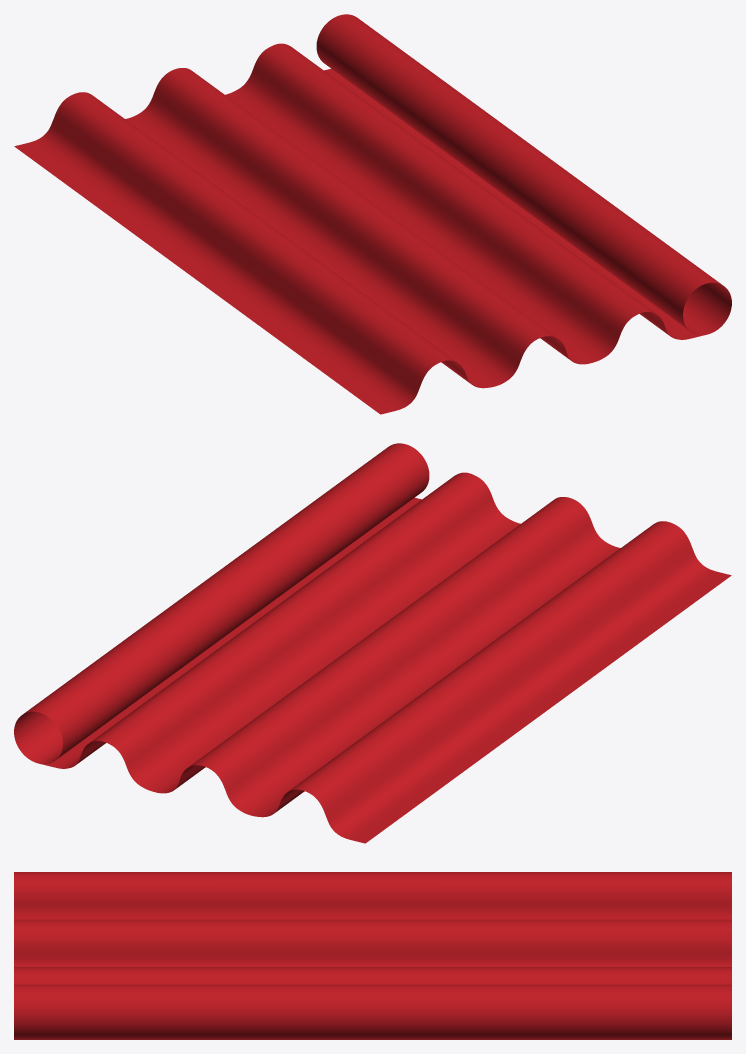
Rendered from Antares3.glb.
3 renders of one model, top to bottom at view 1: azimuth 30°, elevation 25°; view 2: azimuth 150°, elevation 25°; view 3: azimuth 270°, elevation 25°, orthographic. The views are drawn at different scales.
Parts seen in each view (by area): view 1: Plane.001; view 2: Plane.001; view 3: Plane.001.
Part boxes in pixels (left/top/right/bottom): Plane.001: left=14, top=14, right=731, bottom=414; Plane.001: left=14, top=443, right=731, bottom=843; Plane.001: left=14, top=872, right=731, bottom=1039.
Bounding box in the file's own units: 0.2768 × 0.0388 × 0.5.
Materials: 1 (1 with a texture image).
